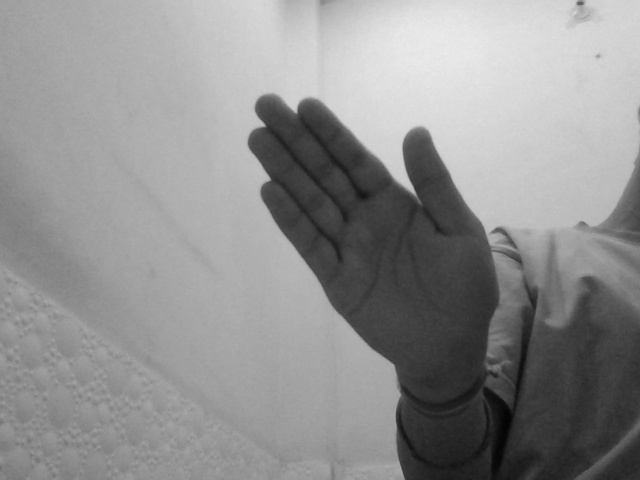Hello: (248, 83, 503, 388)
